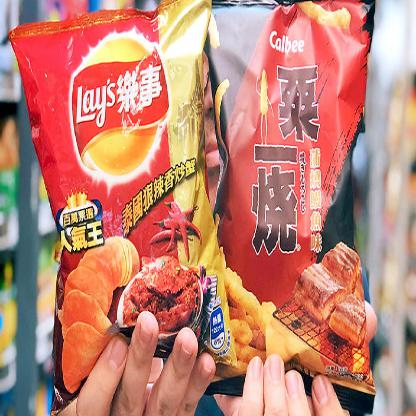potatochip: (3, 0, 243, 415), (181, 1, 380, 415)
